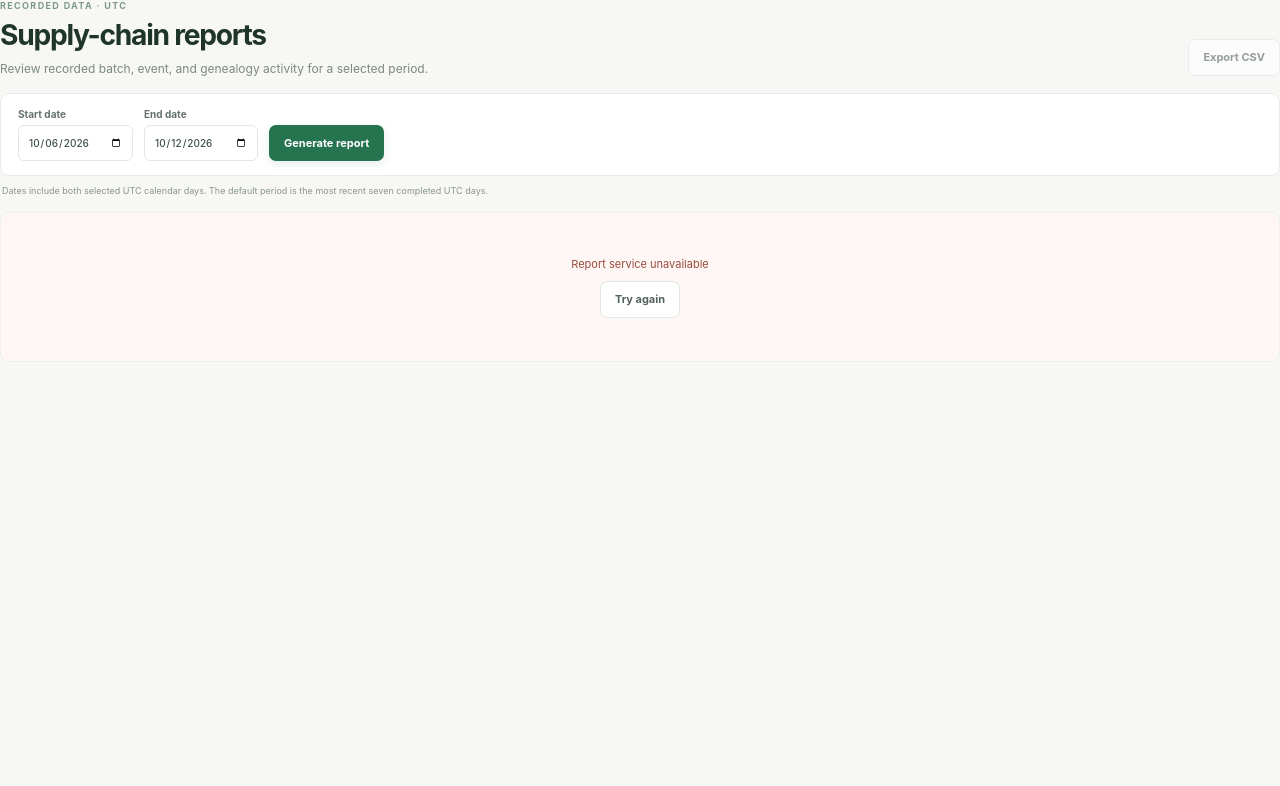
Test: ReportsDashboard › shows API errors and retries against the API
expect the message shows "Report service unavailable": met, box [571,257,709,271]
Step 1. Click the button "Try again" → [640, 299], box [600,281,680,318]
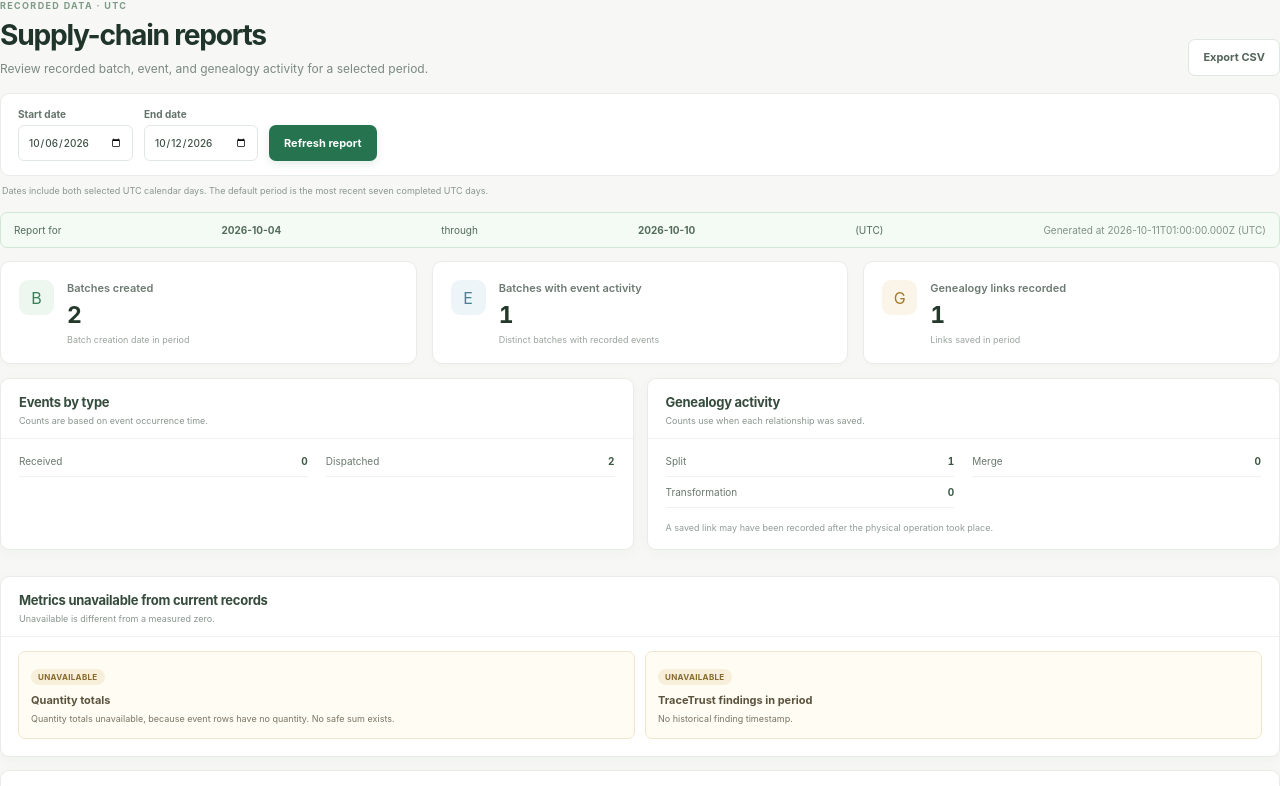
expect the heading "Events by type" is shown: met, box [19,394,109,410]
